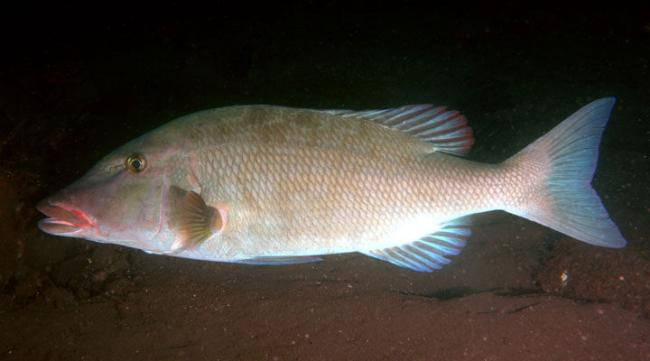fish: (38, 98, 629, 275)
